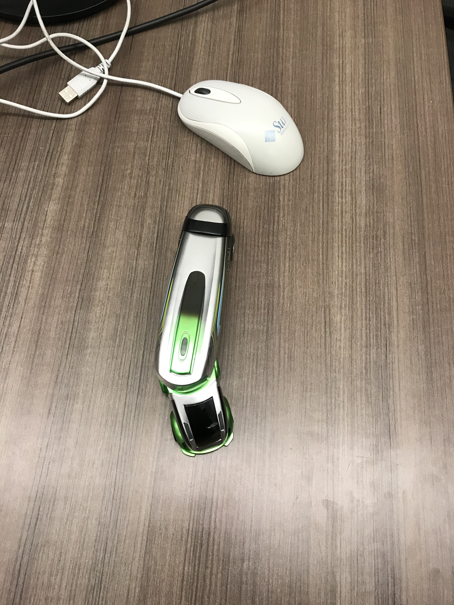Freewheel: (154, 202, 238, 456)
